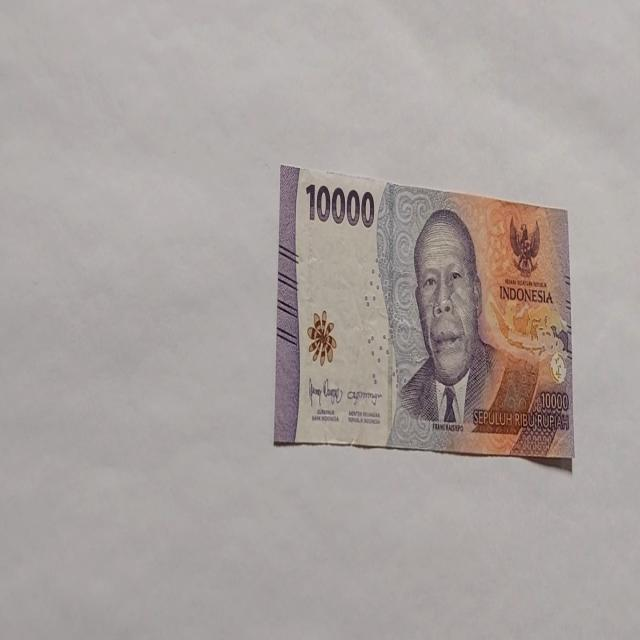sepuluh ribu rupiah: (274, 162, 574, 464)
